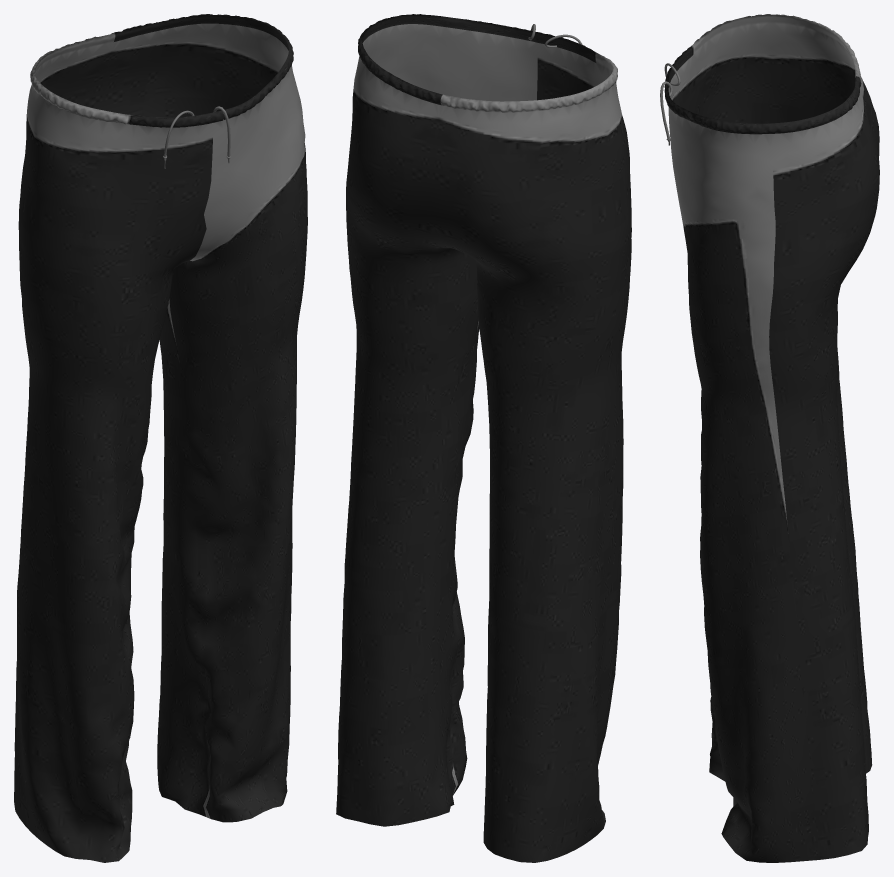
3 renders of one model, left to right at view 1: azimuth 30°, elevation 25°; view 2: azimuth 150°, elevation 25°; view 3: azimuth 270°, elevation 25°, orthographic. The views are drawn at different scales.
Parts seen in each view (by area): view 1: Pattern_78399.001; view 2: Pattern_78399.001; view 3: Pattern_78399.001.
Part boxes in pixels (bbox=[...]): Pattern_78399.001: bbox=[14, 14, 307, 862]; Pattern_78399.001: bbox=[336, 14, 631, 862]; Pattern_78399.001: bbox=[660, 14, 879, 862].
Bounding box in the file's own units: 0.3837 × 1.05 × 0.2823.
1 material, 1 textured.
